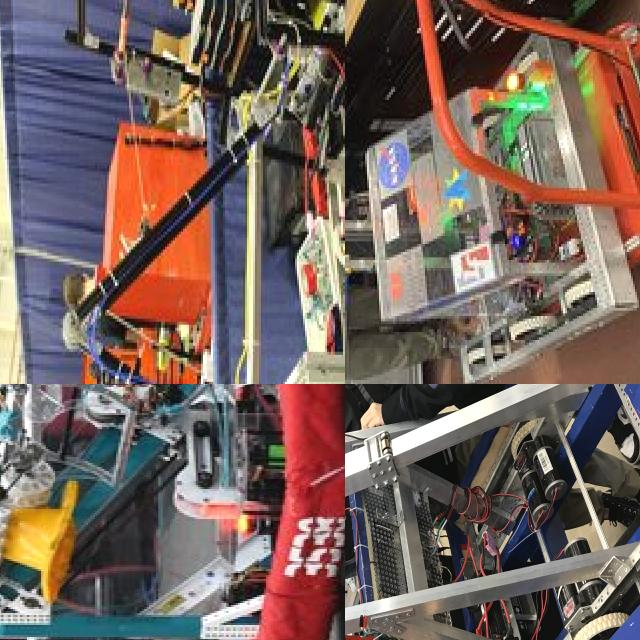FRC-Robots: (46, 0, 345, 384), (345, 0, 640, 384), (0, 384, 345, 640), (345, 384, 640, 640)
